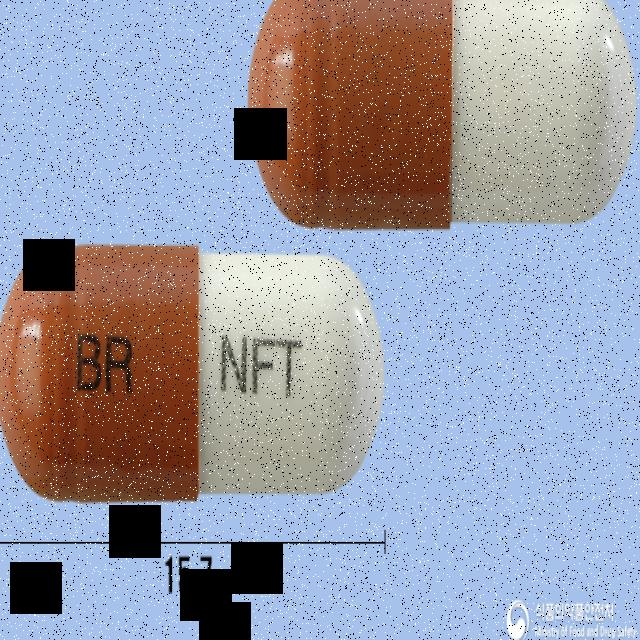Boryung Nitrofurantoin: (0, 239, 386, 507)
